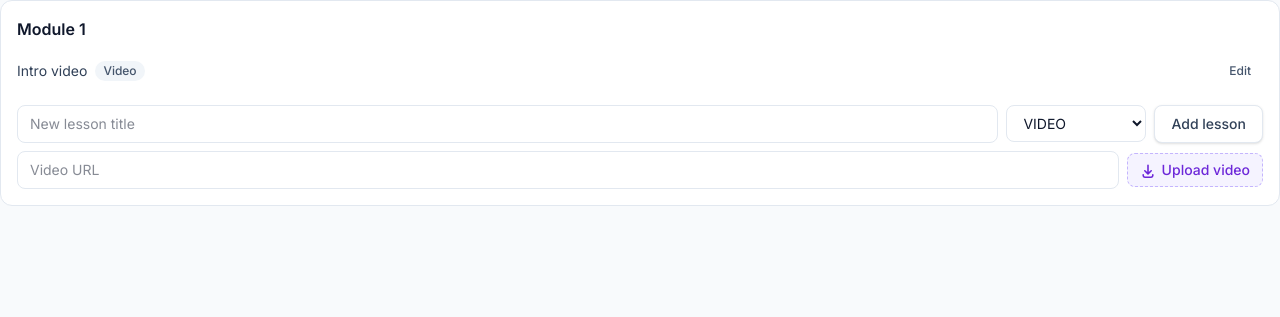
Test: ModuleEditorCard › reverts to the static row without updating when Cancel is clicked
Click the button "Edit" at (1240, 71), box [1217,57,1263,85]
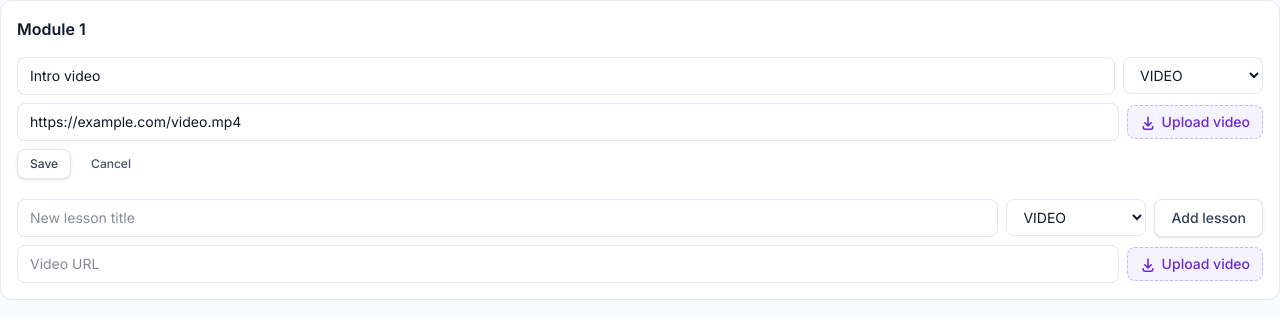
Click the button "Cancel" at (111, 164), box [79,149,143,179]
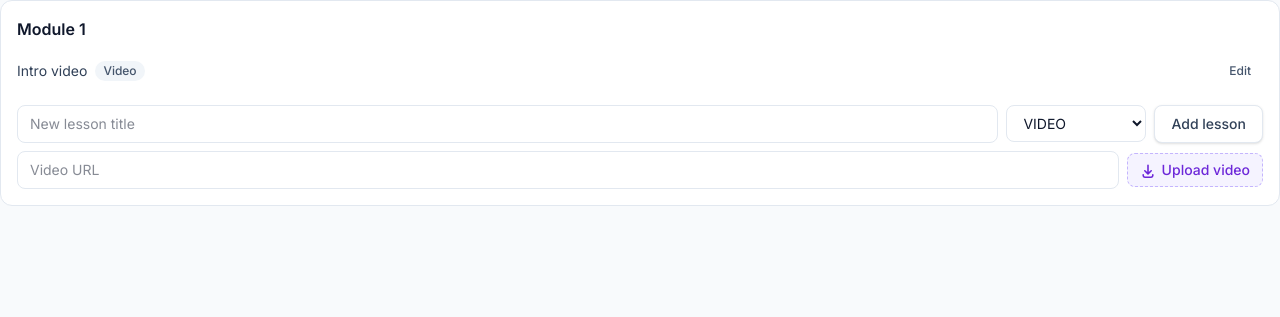
Check: the button "Edit" is shown, box [1217,57,1263,85]
